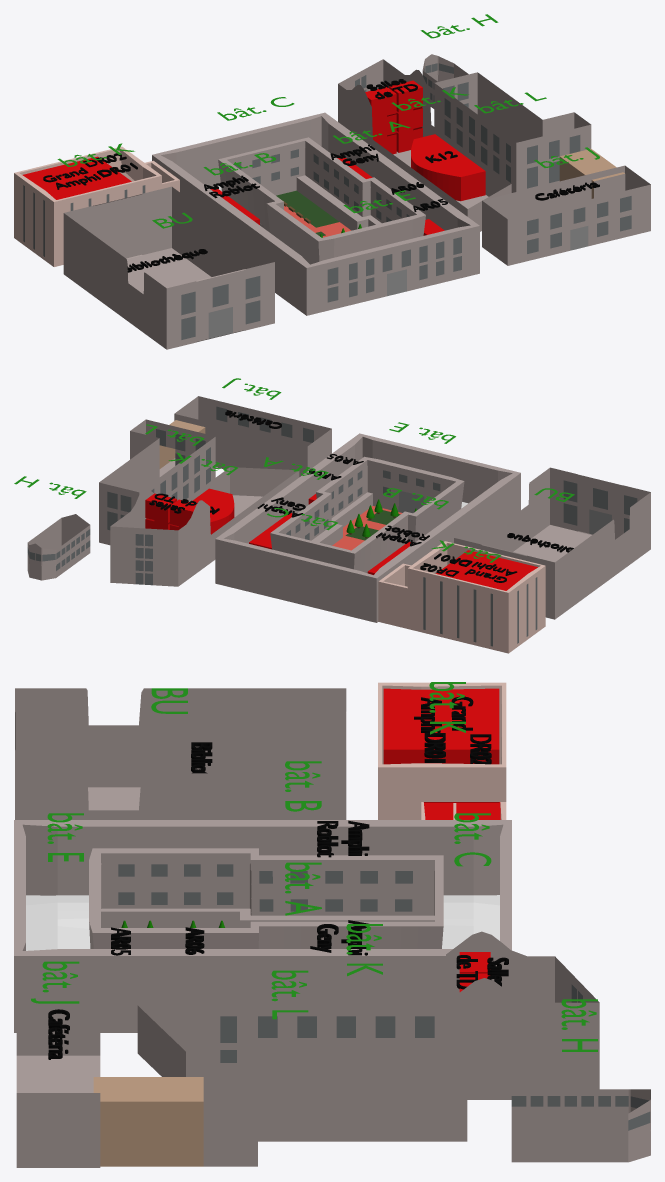
Rendered from bat.glb.
3 views of the same model, one above another, from view 1: azimuth 30°, elevation 25°; view 2: azimuth 150°, elevation 25°; view 3: azimuth 270°, elevation 25° (orthographic). The views are drawn at different scales.
Parts seen in each view (by area): view 1: Bâtiment principal, Cube.001, Cube.006, Cube.005, Cube, Cube.004, Roblot.005, Geny.003, Roblot.003, sol fac, Roblot.004, Cube.007 (+2 smaller); view 2: Bâtiment principal, Cube.001, Cube, Cube.004, Cube.006, Cube.005, Cube.007, Geny.003, sol fac, Roblot.005, Roblot.003, Roblot.004 (+3 smaller); view 3: Bâtiment principal, Cube.006, Cube.001, Cube.004, Cube.005, Cube.007, Cube, Geny.003, Roblot, GA, TD, Geny (+9 smaller).
Part boxes in pixels (box(x1,y1,x2,y2)): Bâtiment principal: box(152, 112, 479, 315); Cube.001: box(63, 186, 274, 349); Cube.006: box(434, 72, 625, 198); Cube.005: box(482, 165, 650, 265); Cube: box(14, 146, 179, 266); Cube.004: box(338, 59, 511, 231); Roblot.005: box(411, 134, 485, 201); Geny.003: box(22, 156, 131, 199); Roblot.003: box(389, 80, 422, 152); sol fac: box(276, 190, 361, 237); Roblot.004: box(365, 87, 396, 154); Cube.007: box(422, 54, 468, 108); Bâtiment principal: box(215, 433, 520, 622); Cube.001: box(454, 467, 650, 619); Cube: box(378, 541, 545, 653); Cube.004: box(110, 467, 299, 586); Cube.006: box(99, 419, 215, 545); Cube.005: box(174, 396, 331, 476); Cube.007: box(27, 514, 90, 580); Geny.003: box(436, 550, 537, 590); sol fac: box(332, 499, 416, 550); Roblot.005: box(192, 488, 234, 534); Roblot.003: box(145, 493, 176, 529); Roblot.004: box(170, 499, 196, 530); Bâtiment principal: box(14, 820, 511, 1032); Cube.006: box(93, 1004, 467, 1166); Cube.001: box(15, 688, 346, 819); Cube.004: box(137, 931, 599, 1099); Cube.005: box(16, 980, 100, 1167); Cube.007: box(511, 1089, 650, 1162); Cube: box(378, 682, 506, 819); Geny.003: box(383, 688, 499, 802); Roblot: box(317, 820, 369, 857); GA: box(414, 696, 473, 732); TD: box(456, 955, 508, 989); Geny: box(310, 920, 368, 955).
Size of what is drawn, in the model's own units: 17.59 by 2.69 by 12.02.
